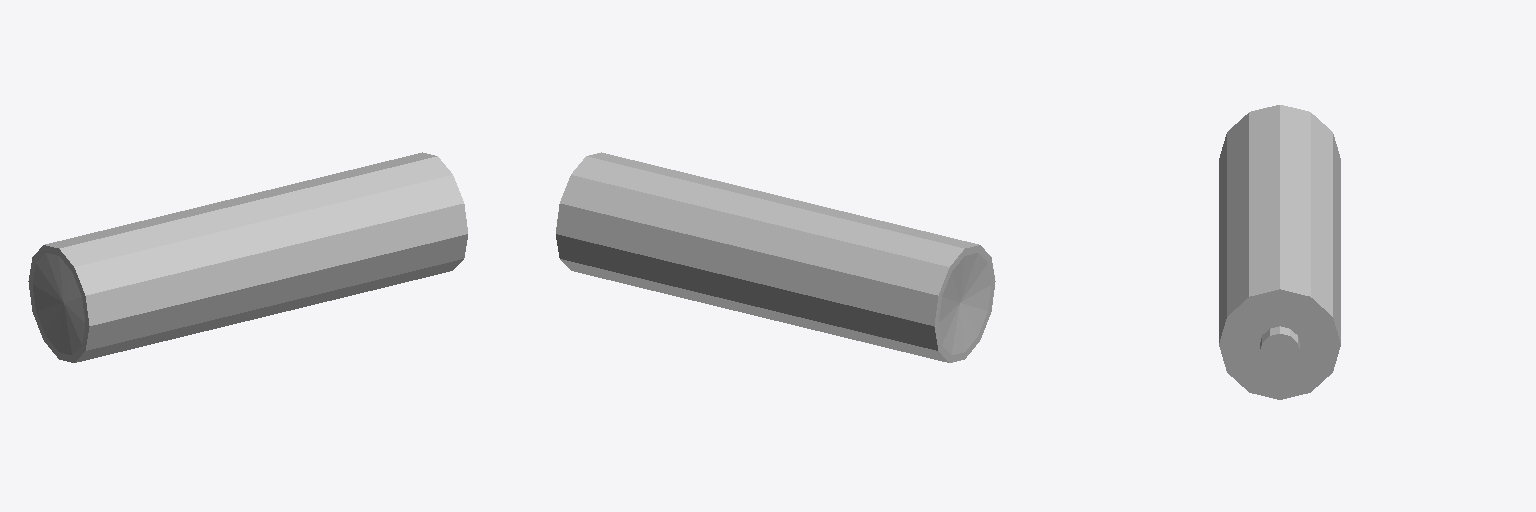
The model's file is AAABattery.obj.
3 renders of one model, left to right at view 1: azimuth 30°, elevation 25°; view 2: azimuth 150°, elevation 25°; view 3: azimuth 270°, elevation 25°, orthographic.
Parts seen in each view (by area): view 1: AAABatteryBody, AAABatteryTop, AAABatterymetal; view 2: AAABatteryBody, AAABatteryTop, AAABatterymetal; view 3: AAABatteryBody, AAABatteryTop, AAABatterymetal.
Boxes of the visible parts, <box> form: AAABatteryBody: <box>28,182,348,362</box>; AAABatteryTop: <box>303,152,467,299</box>; AAABatterymetal: <box>32,253,85,354</box>; AAABatteryBody: <box>675,182,995,362</box>; AAABatteryTop: <box>556,152,720,299</box>; AAABatterymetal: <box>938,253,991,354</box>; AAABatteryBody: <box>1219,105,1340,283</box>; AAABatteryTop: <box>1219,231,1340,399</box>; AAABatterymetal: <box>1230,300,1329,389</box>.
Size of the model in its own units: 2.77 by 0.7455 by 0.7454.